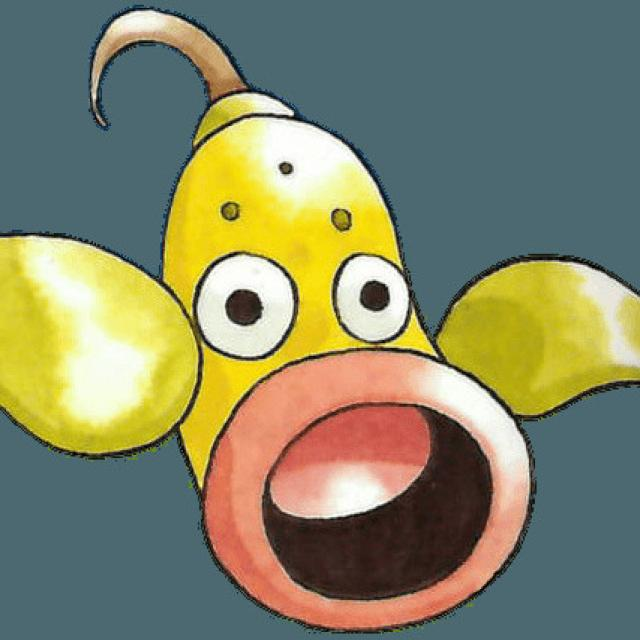Weepinbell: (140, 73, 551, 608)
